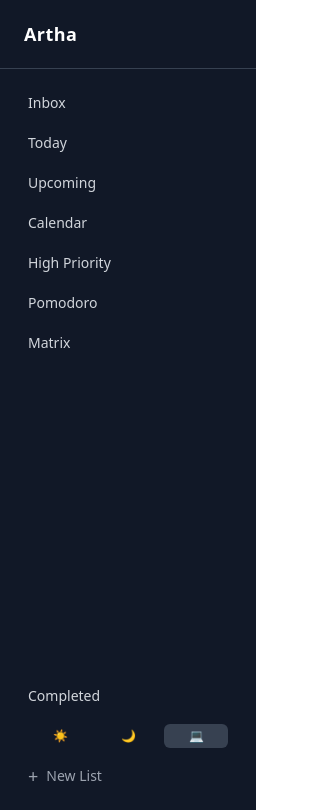
Test: Sidebar — New List button (AR-72) › shows input when New List button is clicked
Click the button with test id "new-list-button": [128, 776] box [12,758,244,794]
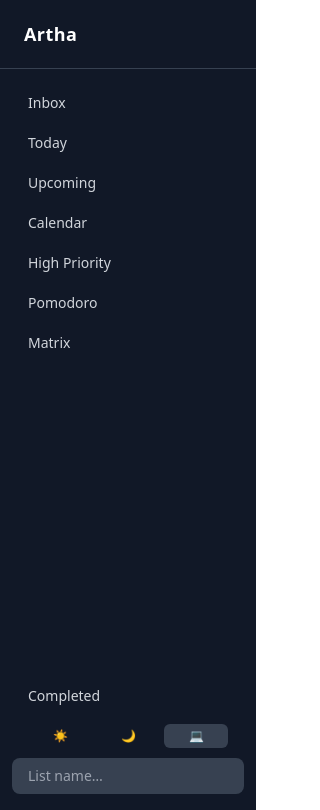
Check: the field with test id "new-list-input" is shown, box [12,758,244,794]
Check: the button with test id "new-list-button" is gone
